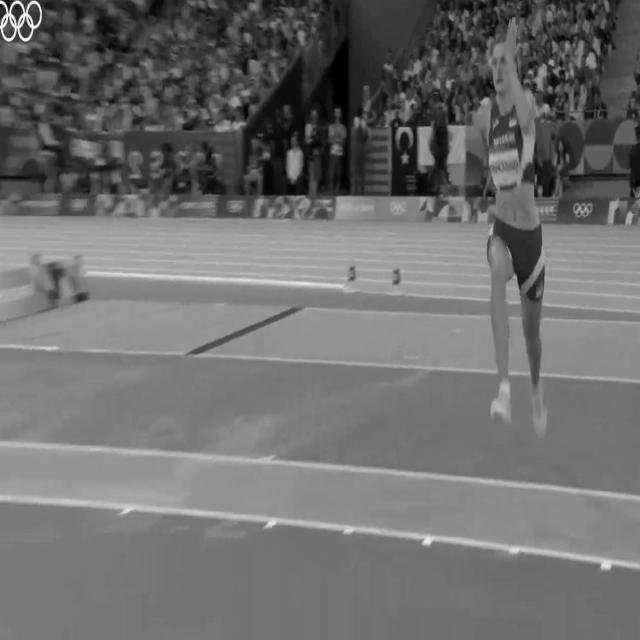run: (473, 0, 548, 436)
